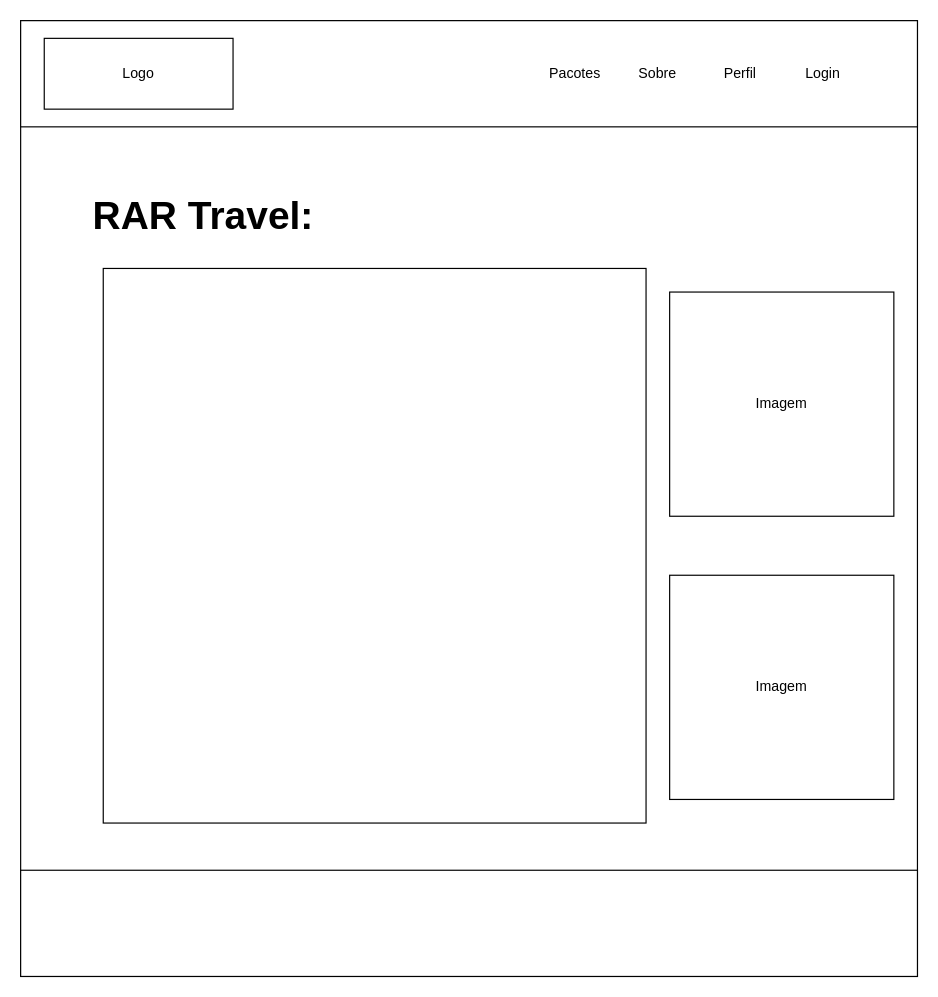
This 938x997 diagram has some shape labels left out. Each missing label, with the box of its shape:
Footer: (19, 869, 917, 976)
Texto: (102, 267, 646, 823)
